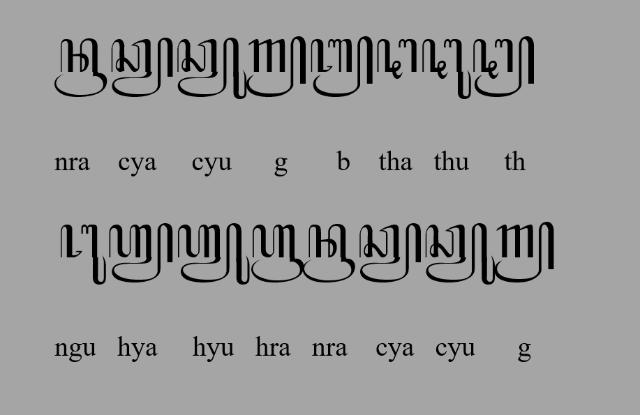-b: (310, 36, 374, 98)
-g: (494, 221, 556, 282)
-th: (472, 35, 536, 97)
b: (246, 36, 306, 98)
cy: (358, 222, 422, 284), (110, 38, 173, 98)
cyu: (176, 37, 248, 99), (424, 223, 496, 285)
hr: (252, 225, 304, 284)
hy: (108, 223, 174, 283)
hyu: (178, 222, 250, 286)
ngu: (61, 224, 108, 286)
nr: (54, 36, 108, 97), (303, 224, 355, 282)
th: (376, 38, 418, 80)
thu: (421, 38, 472, 100)
